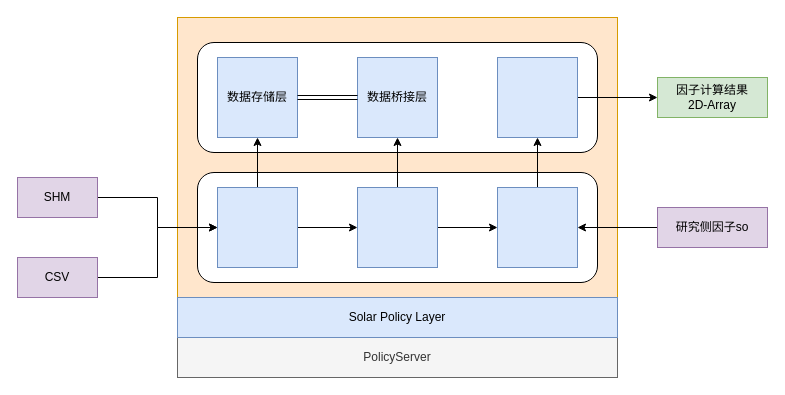
The diagram is 785 pixels wide and 395 high, and some of its shapes have lost their labels. The box of each missing label's shape, as (x1, y1, x2, y2) in pixels:
因子插件层: (496, 186, 578, 268)
数据接入层: (216, 186, 298, 268)
结果输出层: (496, 56, 578, 138)
计算引擎层: (356, 186, 438, 268)
